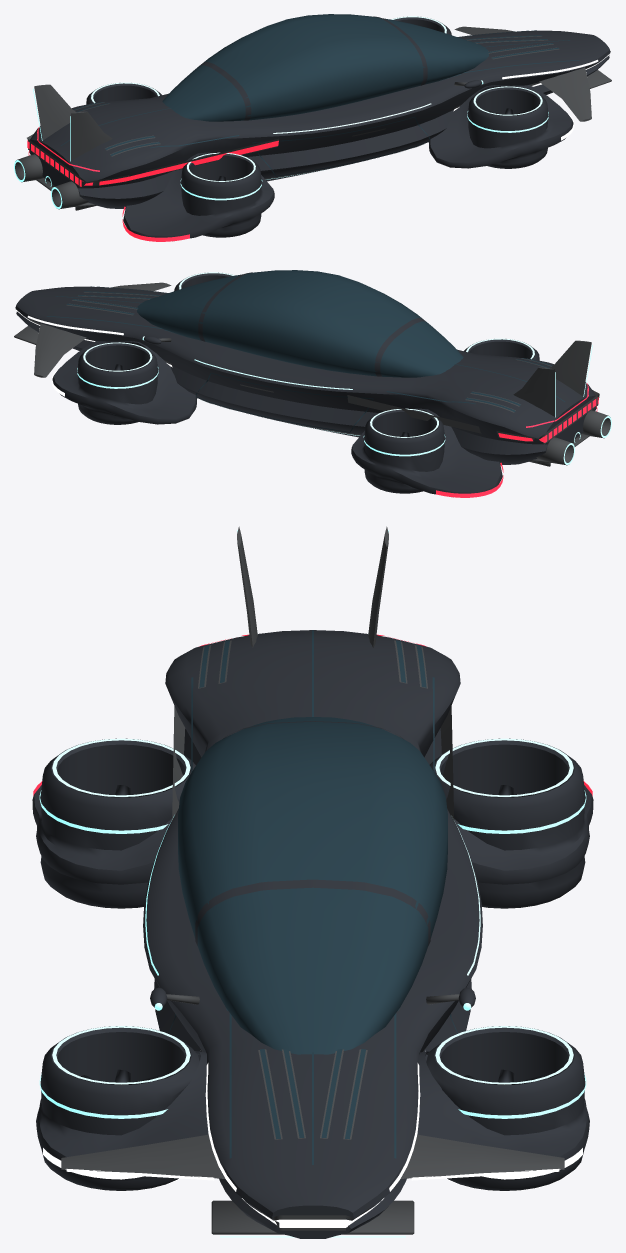
The model's file is hover205.glb.
The picture shows the model from 3 angles, top to bottom: view 1: azimuth 30°, elevation 25°; view 2: azimuth 150°, elevation 25°; view 3: azimuth 270°, elevation 25°; orthographic projection. The views are drawn at different scales.
Parts seen in each view (by area): view 1: h205-body, h205-glass, h205-pod3, h205-pod1, h205-trim-details, h205-accent-details, h205-glass-details, h205-tail-details, h205-canard-1, h205-fin1, h205-fin-1, h205-body-details (+3 smaller); view 2: h205-body, h205-glass, h205-pod2, h205-pod0, h205-trim-details, h205-accent-details, h205-glass-details, h205-canard1, h205-fin-1, h205-fin1, h205-body-details, h205-tail-details (+3 smaller); view 3: h205-body, h205-glass, h205-pod3, h205-pod0, h205-pod1, h205-pod2, h205-trim-details, h205-accent-details, h205-glass-details, h205-canard1, h205-canard-1, h205-body-details (+1 smaller).
Boxes of the visible parts, <box> form: h205-body: <box>30,30,610,208</box>; h205-glass: <box>162,14,488,121</box>; h205-pod3: <box>123,152,274,238</box>; h205-pod1: <box>428,85,573,168</box>; h205-trim-details: <box>15,36,611,210</box>; h205-accent-details: <box>14,16,548,208</box>; h205-glass-details: <box>61,30,579,176</box>; h205-tail-details: <box>27,127,278,241</box>; h205-canard-1: <box>539,67,591,121</box>; h205-fin1: <box>34,84,75,140</box>; h205-fin-1: <box>71,111,112,160</box>; h205-body-details: <box>200,16,529,182</box>; h205-body: <box>15,286,595,464</box>; h205-glass: <box>137,270,463,377</box>; h205-pod2: <box>351,408,502,494</box>; h205-pod0: <box>52,341,197,424</box>; h205-trim-details: <box>14,292,610,466</box>; h205-accent-details: <box>77,272,611,464</box>; h205-glass-details: <box>46,286,564,432</box>; h205-canard1: <box>34,323,86,377</box>; h205-fin-1: <box>550,340,591,395</box>; h205-fin1: <box>513,367,554,416</box>; h205-body-details: <box>98,272,425,438</box>; h205-tail-details: <box>436,383,598,497</box>; h205-body: <box>143,630,482,1238</box>; h205-glass: <box>178,717,447,1054</box>; h205-pod3: <box>32,738,195,908</box>; h205-pod0: <box>417,1026,589,1190</box>; h205-pod1: <box>36,1026,208,1190</box>; h205-pod2: <box>429,738,593,908</box>; h205-trim-details: <box>114,640,511,1234</box>; h205-accent-details: <box>39,530,586,1237</box>; h205-glass-details: <box>168,630,457,1164</box>; h205-canard1: <box>401,1134,564,1178</box>; h205-canard-1: <box>61,1134,224,1178</box>; h205-body-details: <box>80,721,548,1084</box>.
Bounding box in the file's own units: 4.75 × 1.01 × 2.05.
